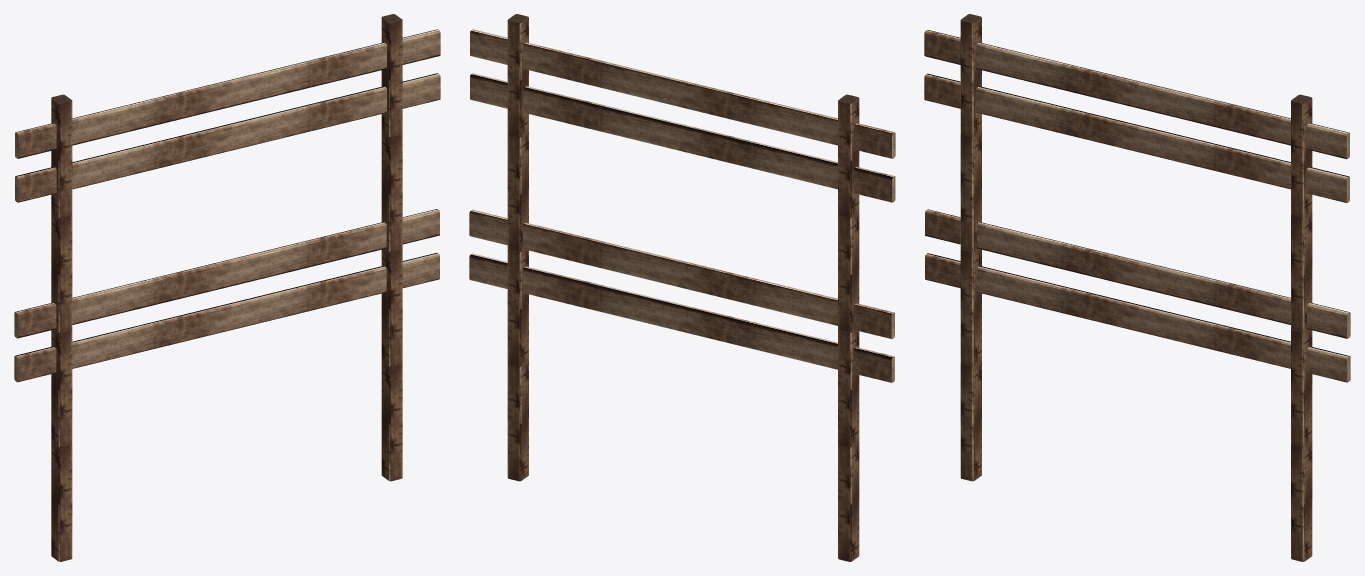
File: fence_wood3.fbx
The picture shows the model from 3 angles, left to right: view 1: azimuth 30°, elevation 25°; view 2: azimuth 150°, elevation 25°; view 3: azimuth 330°, elevation 25°; orthographic projection.
Visible parts, largest first — view 1: fence3; view 2: fence3; view 3: fence3.
Part boxes in pixels (x1,y1,x2,y2): fence3: [14, 14, 440, 561]; fence3: [469, 14, 895, 561]; fence3: [924, 14, 1350, 561].
Bounding box in the file's own units: 17.68 × 18.33 × 0.6639.
